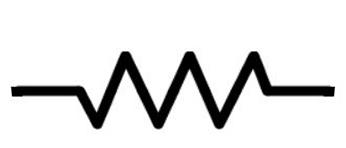resistor: (71, 40, 274, 136)
